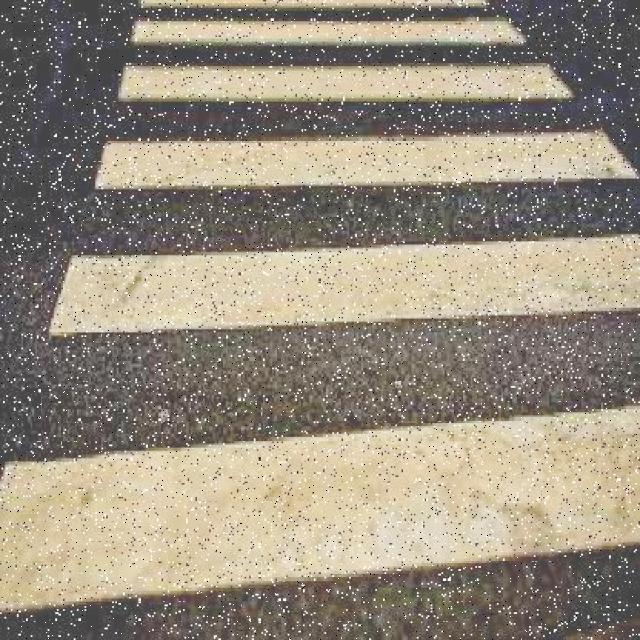crosswalk: (2, 0, 640, 608)
